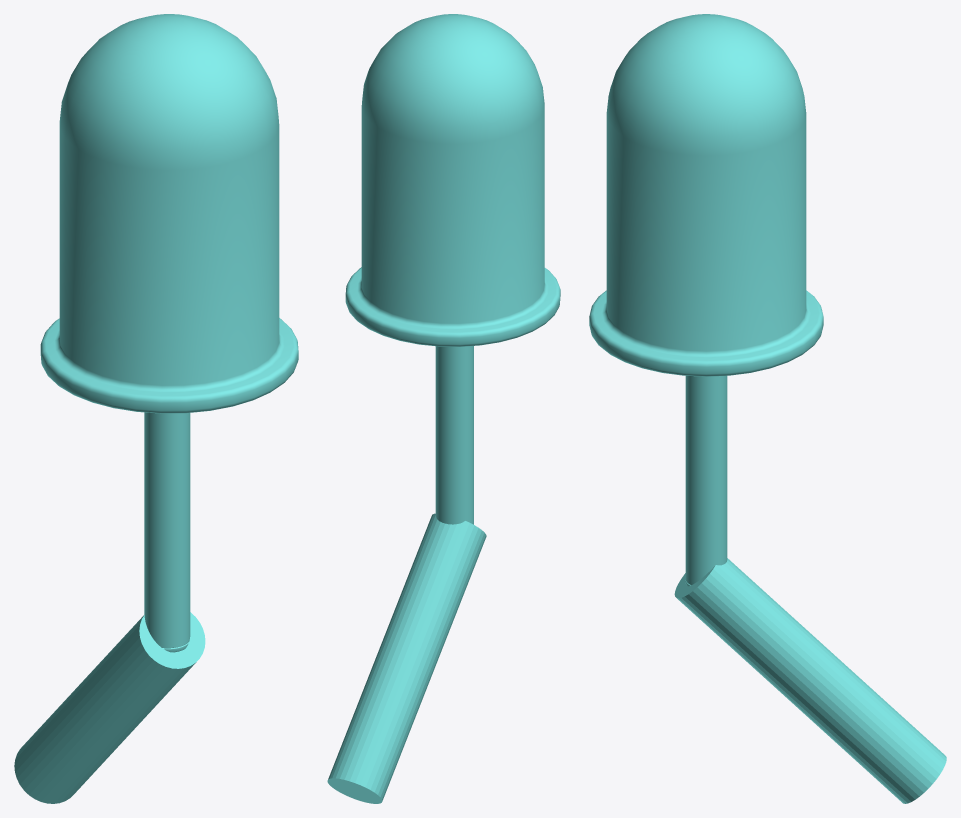
The model's file is brush.dae.
The picture shows the model from 3 angles, left to right: view 1: azimuth 30°, elevation 25°; view 2: azimuth 150°, elevation 25°; view 3: azimuth 270°, elevation 25°; orthographic projection. The views are drawn at different scales.
Parts seen in each view (by area): view 1: Object_3, Cylinder, Object_2; view 2: Object_3, Cylinder, Object_2; view 3: Object_3, Cylinder, Object_2.
Boxes of the visible parts, box(x1,y1,x2,y2) form: Object_3: box(40, 14, 298, 413); Cylinder: box(14, 612, 205, 803); Object_2: box(144, 412, 190, 652); Object_3: box(345, 14, 560, 346); Cylinder: box(327, 513, 486, 803); Object_2: box(435, 346, 473, 524); Object_3: box(589, 14, 823, 376); Cylinder: box(674, 558, 946, 803); Object_2: box(685, 376, 727, 586).
Bounding box in the file's own units: 0.0732 × 0.1115 × 0.2675.
